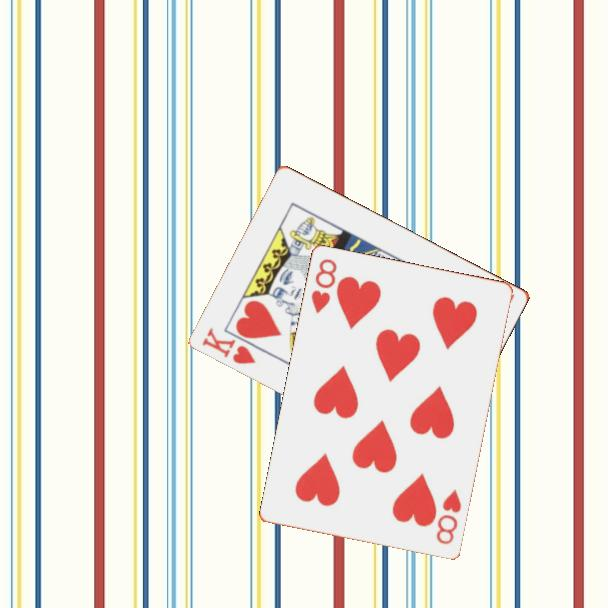h08: (308, 255, 340, 317), (433, 487, 464, 548)
h13: (199, 324, 259, 367)
